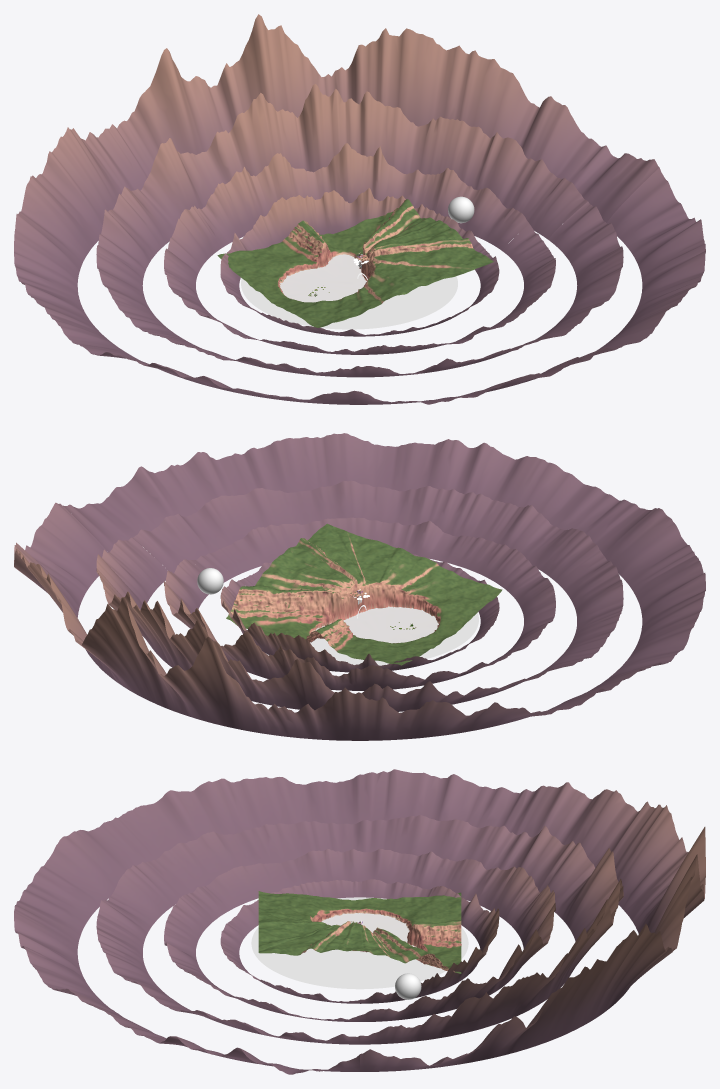
File: micro-biome.glb
The picture shows the model from 3 angles, top to bottom: view 1: azimuth 30°, elevation 25°; view 2: azimuth 150°, elevation 25°; view 3: azimuth 270°, elevation 25°; orthographic projection.
Visible parts, largest first — view 1: Landing.Mountains, Landing.Canyon, Pool; view 2: Landing.Mountains, Landing.Canyon, Pool, Sun; view 3: Landing.Mountains, Landing.Canyon, Pool, Sun.
Boxes of the visible parts, x1,y1,x2,y2 form: Landing.Mountains: (14,14,705,404); Landing.Canyon: (217,199,493,327); Pool: (241,254,457,329); Landing.Mountains: (14,433,705,740); Landing.Canyon: (226,523,502,665); Pool: (310,606,478,665); Sun: (197,568,223,594); Landing.Mountains: (14,769,705,1074); Landing.Canyon: (258,891,461,973); Pool: (251,897,468,989); Sun: (395,973,421,999).
Bounding box in the file's own units: 287 × 60.23 × 287.
